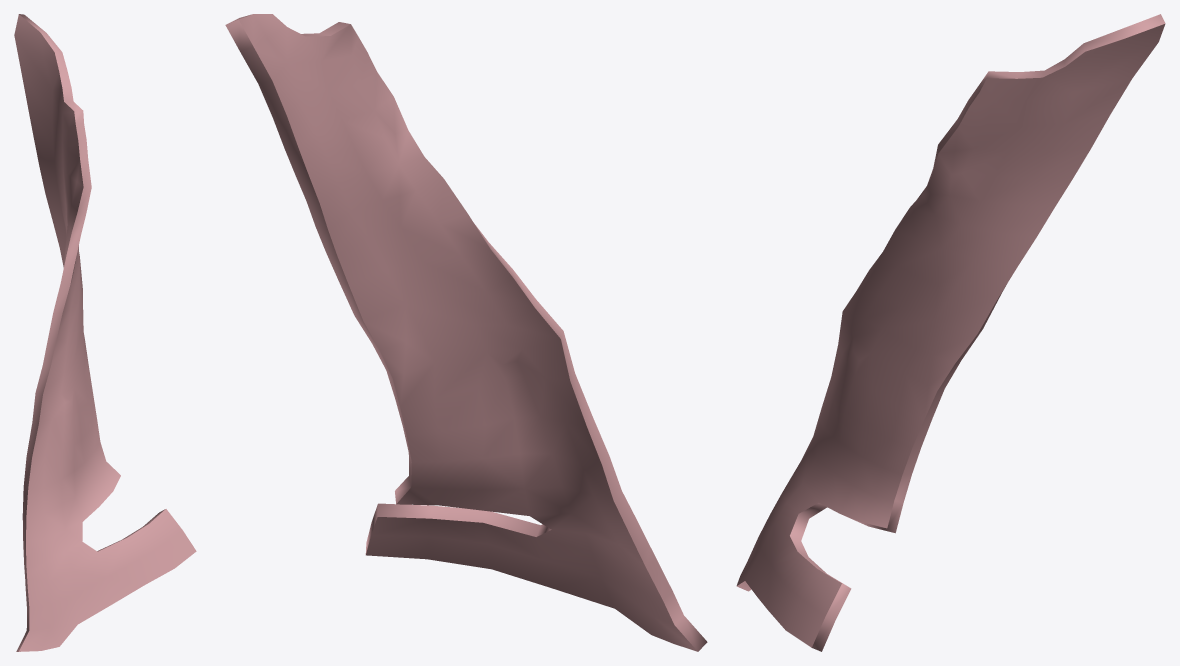
The picture shows the model from 3 angles, left to right: view 1: azimuth 30°, elevation 25°; view 2: azimuth 150°, elevation 25°; view 3: azimuth 270°, elevation 25°; orthographic projection. The views are drawn at different scales.
Visible parts, largest first — view 1: ZA_8d29dbfd69937b1d; view 2: ZA_8d29dbfd69937b1d; view 3: ZA_8d29dbfd69937b1d.
Part boxes in pixels (x1=…): ZA_8d29dbfd69937b1d: x1=14, y1=14, x2=196, y2=651; ZA_8d29dbfd69937b1d: x1=225, y1=14, x2=707, y2=651; ZA_8d29dbfd69937b1d: x1=736, y1=14, x2=1165, y2=651.
Bounding box in the file's own units: 0.07 × 0.163 × 0.0967.
